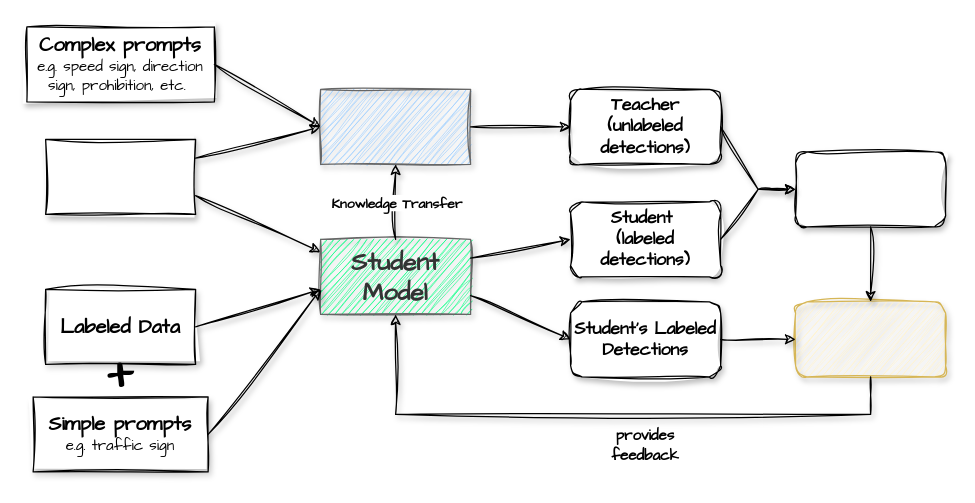
Image size: 975x503. Some labels were removed from this diagram. Each missing label, with the centre of its shape:
Teacher Model: the point at 396,128
Trainer: the point at 871,341
Unlabeled Data: the point at 121,178
Unlabeled Detections: the point at 871,191
